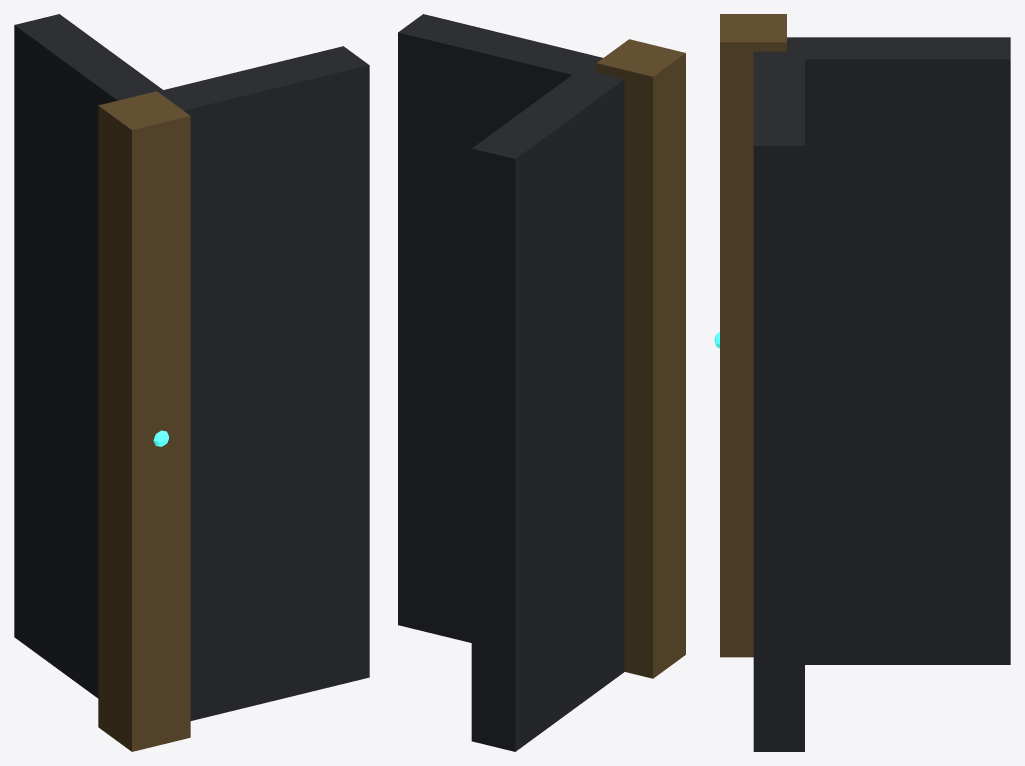
Rendered from SM_Wall_DvergrPlate_08_Corner.glb.
3 views of the same model, side by side, from view 1: azimuth 30°, elevation 25°; view 2: azimuth 150°, elevation 25°; view 3: azimuth 270°, elevation 25° (orthographic). The views are drawn at different scales.
Visible parts, largest first — view 1: SM_Wall_DvergrPlate_08_Corner_PanelX, SM_Wall_DvergrPlate_08_Corner_Strut, SM_Wall_DvergrPlate_08_Corner_PanelY; view 2: SM_Wall_DvergrPlate_08_Corner_PanelY, SM_Wall_DvergrPlate_08_Corner_PanelX, SM_Wall_DvergrPlate_08_Corner_Strut; view 3: SM_Wall_DvergrPlate_08_Corner_PanelY, SM_Wall_DvergrPlate_08_Corner_PanelX, SM_Wall_DvergrPlate_08_Corner_Strut.
Part boxes in pixels (box(x1,y1,x2,y2)): SM_Wall_DvergrPlate_08_Corner_PanelX: box(157, 46, 369, 720); SM_Wall_DvergrPlate_08_Corner_Strut: box(98, 91, 190, 751); SM_Wall_DvergrPlate_08_Corner_PanelY: box(14, 14, 162, 698); SM_Wall_DvergrPlate_08_Corner_PanelY: box(471, 75, 615, 751); SM_Wall_DvergrPlate_08_Corner_PanelX: box(398, 14, 624, 677); SM_Wall_DvergrPlate_08_Corner_Strut: box(596, 39, 685, 678); SM_Wall_DvergrPlate_08_Corner_PanelY: box(805, 37, 1010, 664); SM_Wall_DvergrPlate_08_Corner_PanelX: box(753, 37, 804, 751); SM_Wall_DvergrPlate_08_Corner_Strut: box(720, 14, 786, 657).
Size of the model in its own units: 1.13 by 2.64 by 1.15.
